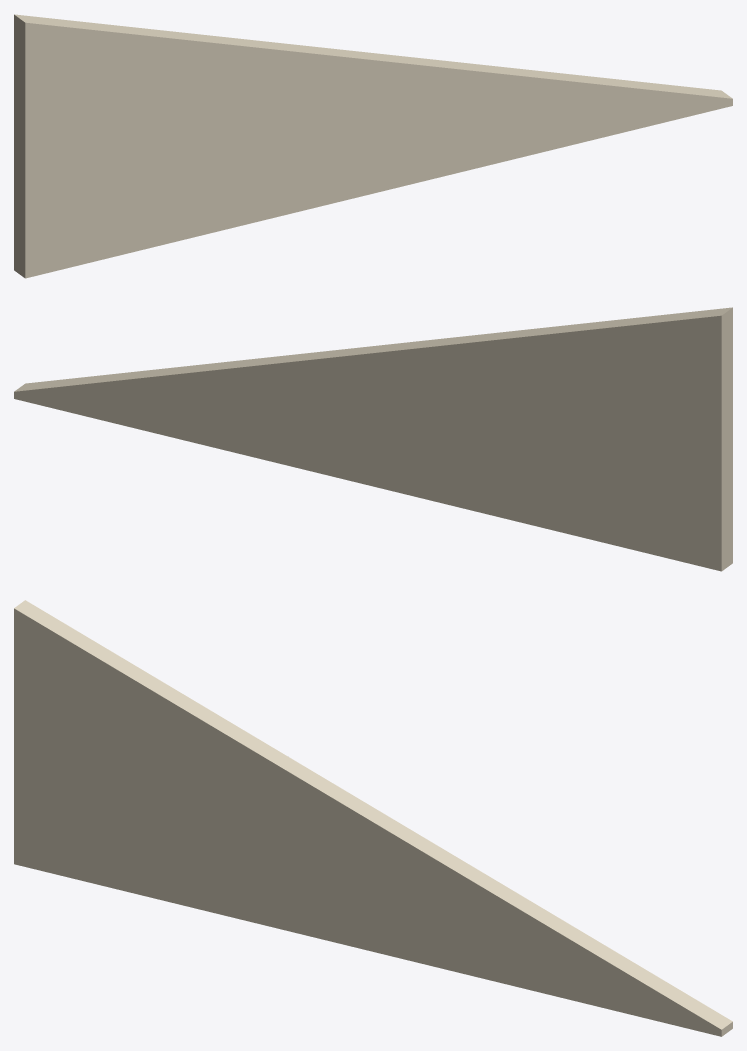
3 renders of one model, top to bottom at view 1: azimuth 30°, elevation 25°; view 2: azimuth 150°, elevation 25°; view 3: azimuth 330°, elevation 25°, orthographic.
Visible parts, largest first — view 1: A-ROOF-INFILL-05; view 2: A-ROOF-INFILL-05; view 3: A-ROOF-INFILL-05.
Part boxes in pixels (x1,y1,x2,y2): A-ROOF-INFILL-05: [14, 14, 732, 278]; A-ROOF-INFILL-05: [14, 307, 732, 571]; A-ROOF-INFILL-05: [14, 600, 732, 1036].
Size of the model in its own units: 5.79 by 2 by 0.16.
